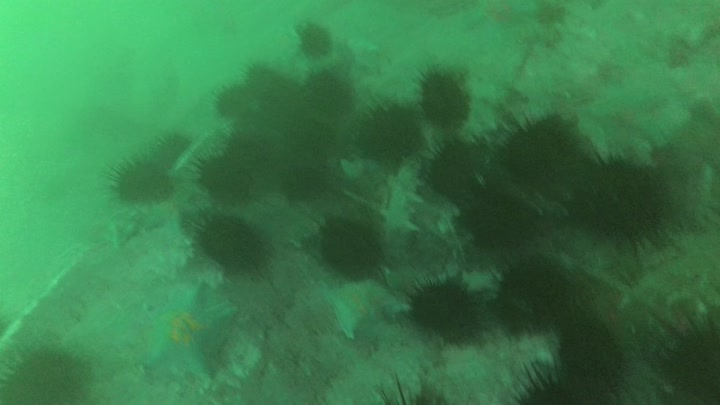echinus: (570, 151, 682, 254), (493, 105, 597, 202), (490, 251, 591, 346), (456, 180, 564, 260), (643, 300, 720, 405), (401, 267, 487, 352), (192, 205, 277, 284), (351, 97, 431, 175), (317, 206, 391, 290), (554, 313, 630, 387), (1, 343, 88, 405), (192, 149, 269, 217), (423, 132, 491, 208), (509, 361, 612, 405), (413, 66, 477, 136), (274, 150, 343, 208), (104, 156, 181, 207), (217, 127, 288, 174), (281, 112, 344, 164), (375, 371, 463, 405), (299, 72, 359, 119), (251, 90, 301, 135), (148, 133, 200, 170), (293, 21, 338, 63), (237, 60, 287, 97), (212, 85, 258, 121)
starfish: (142, 285, 240, 387)
